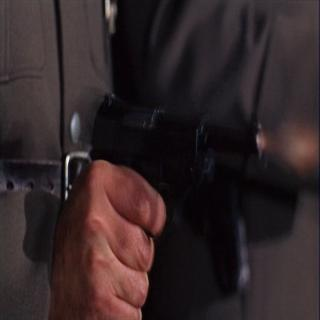gun: (82, 86, 268, 319)
